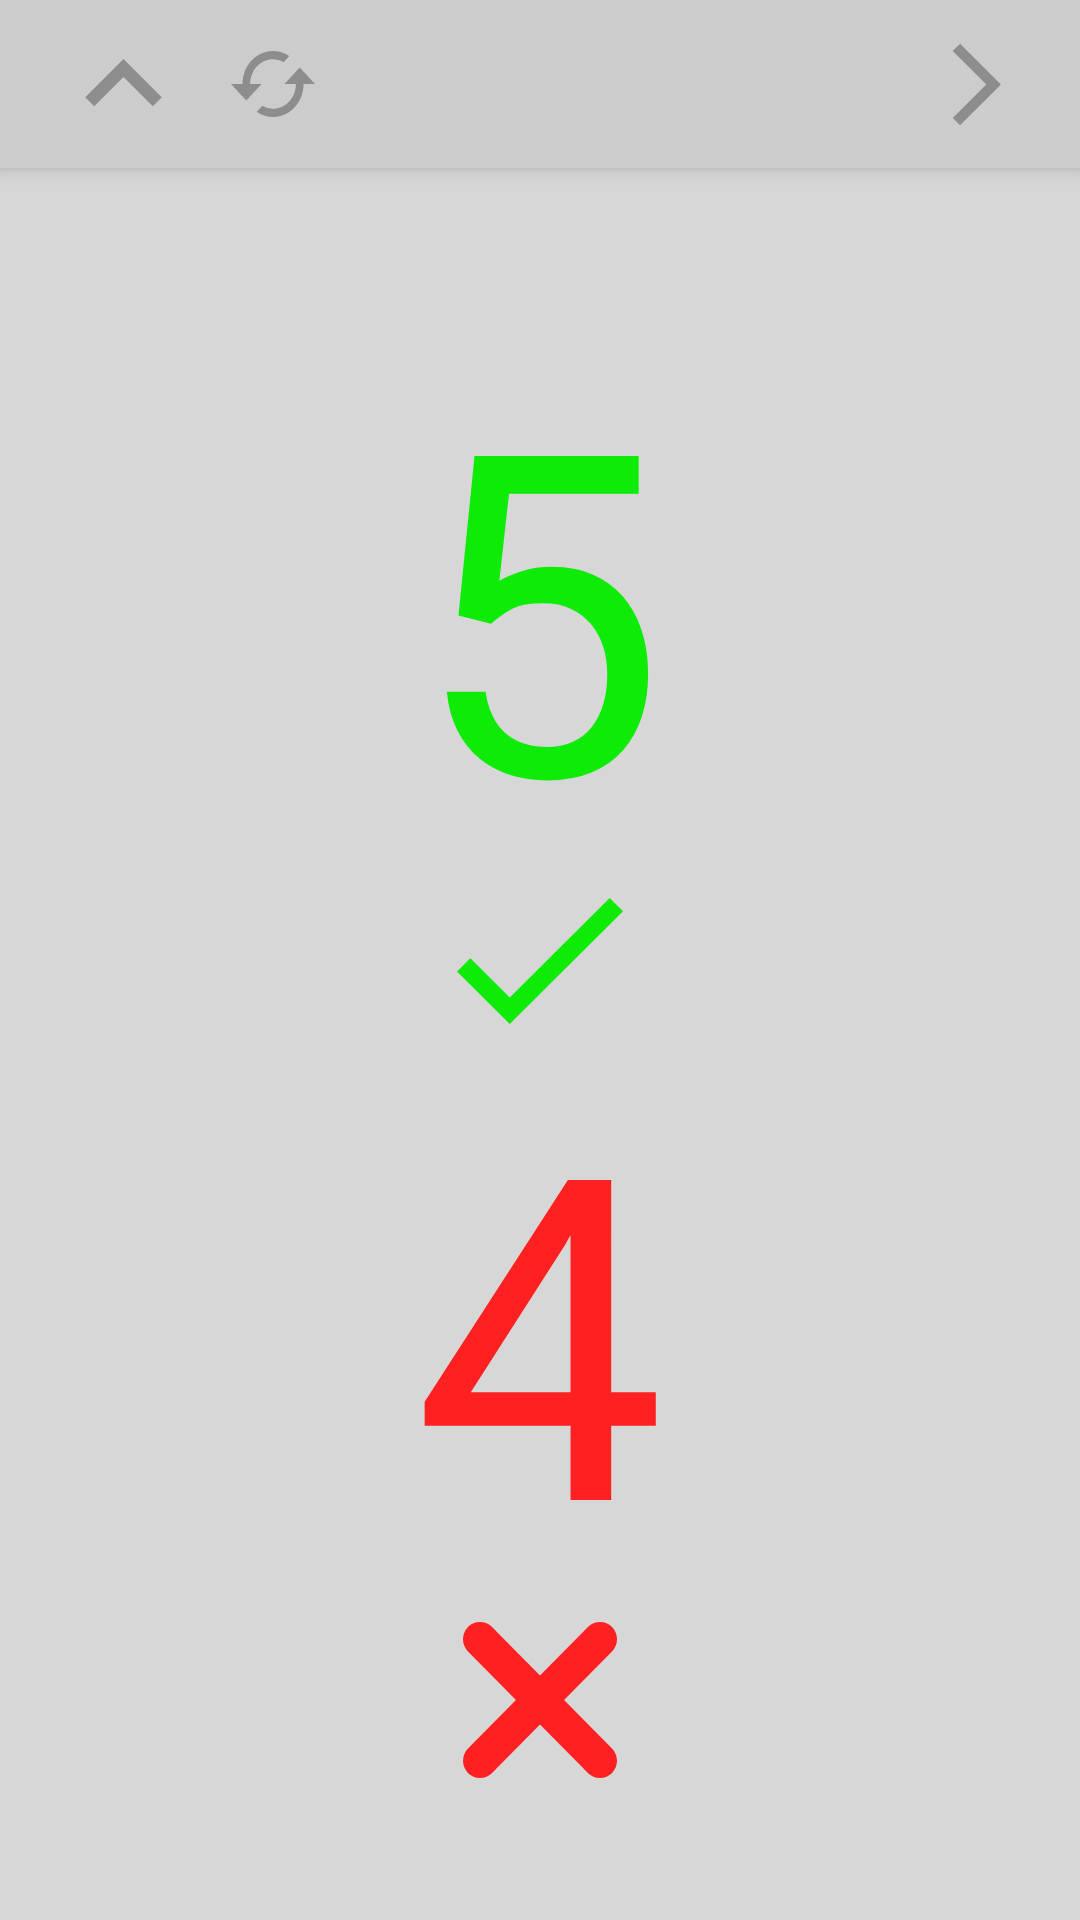

Screen size 1080×1920. Icon name, then its box in pixels as [x1, y1, x2, y2]:
accept: [457, 898, 623, 1024]
cross: [463, 1622, 617, 1778]
forward arrow: [953, 44, 1001, 125]
update: [231, 51, 315, 117]
